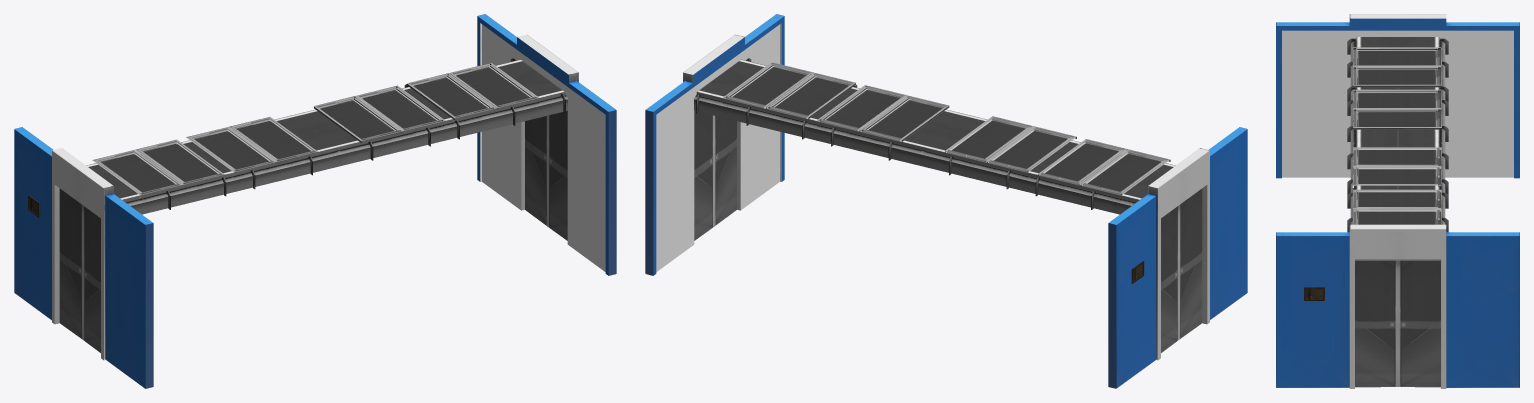
Rendered from set7G_1200.obj.
The picture shows the model from 3 angles, left to right: view 1: azimuth 30°, elevation 25°; view 2: azimuth 150°, elevation 25°; view 3: azimuth 270°, elevation 25°; orthographic projection. The views are drawn at different scales.
Parts seen in each view (by area): view 1: set7G; view 2: set7G; view 3: set7G.
Part boxes in pixels (box(x1,y1,x2,y2)): set7G: box(14, 14, 616, 388); set7G: box(645, 14, 1247, 388); set7G: box(1276, 14, 1519, 388).
Bounding box in the file's own units: 7.52 × 2.6 × 3.6.
